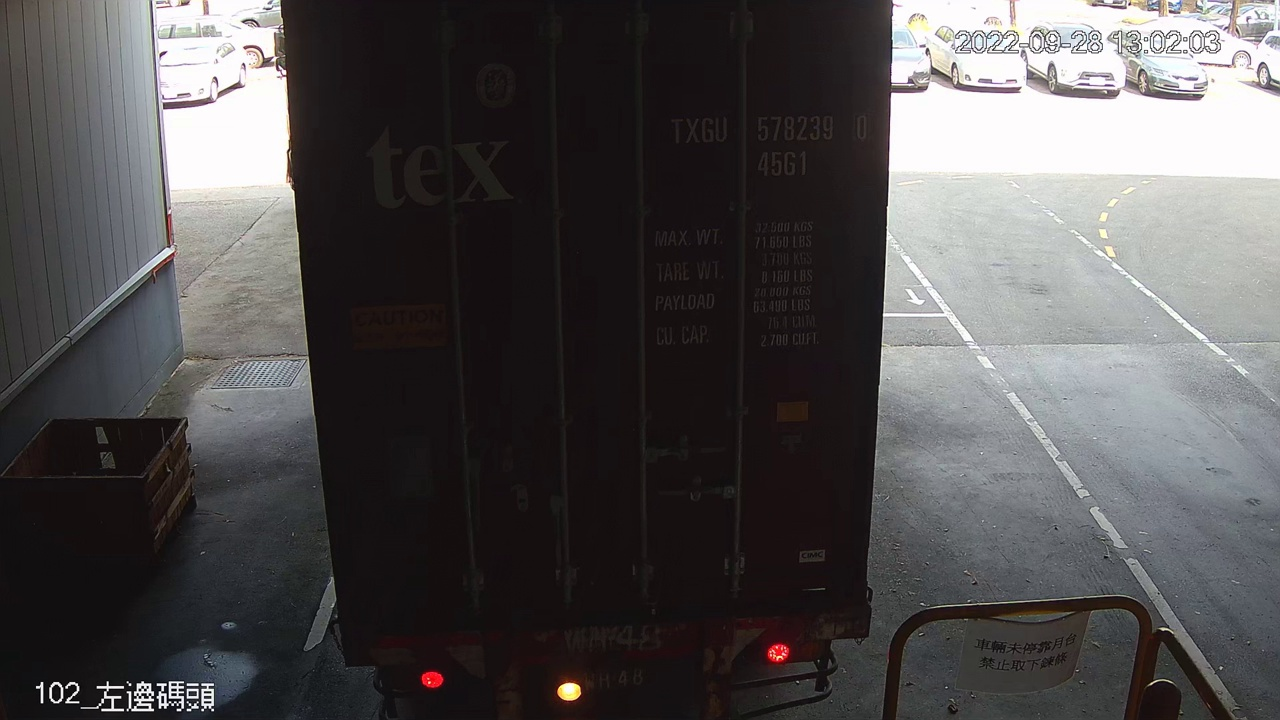container: (662, 106, 878, 185)
